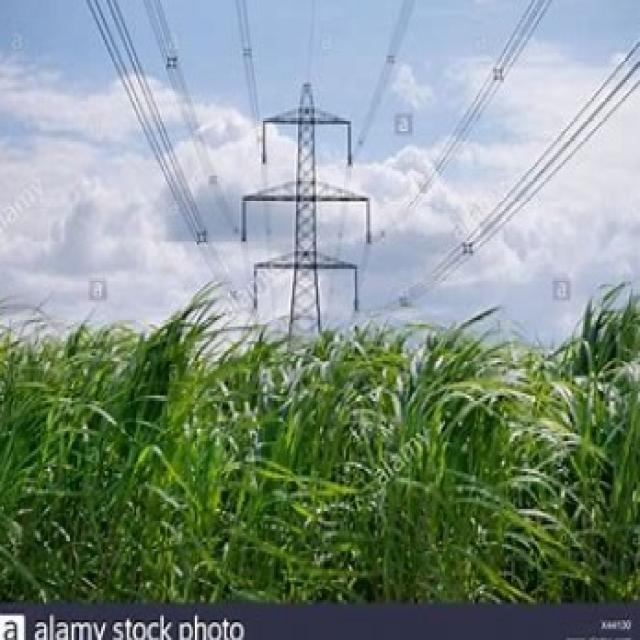utility poles: (224, 58, 385, 602)
